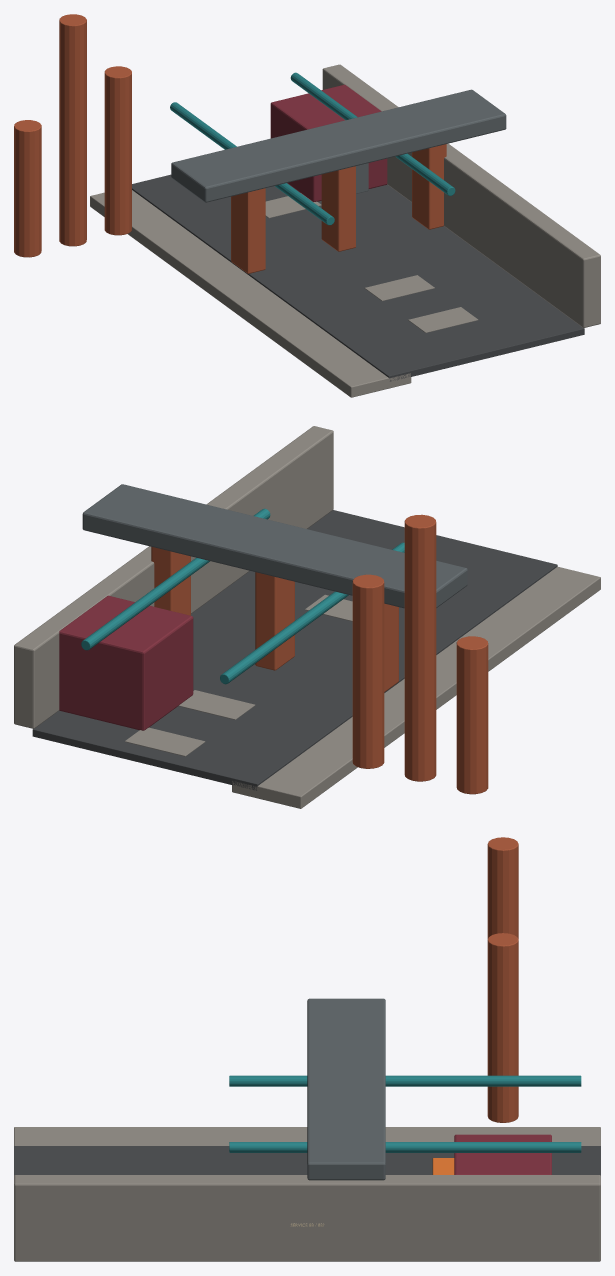
The model's file is cell_industrial_transition.glb.
The picture shows the model from 3 angles, top to bottom: view 1: azimuth 30°, elevation 25°; view 2: azimuth 150°, elevation 25°; view 3: azimuth 270°, elevation 25°; orthographic projection. The views are drawn at different scales.
Parts seen in each view (by area): view 1: IndustrialServiceRoad, RetainingWallEast, RailBridgeDeck, DrainageChannel, DistantChimney.001, DistantChimney, UtilityShed, DistantChimney.002, BridgePier_-6, BridgePier_0, BridgePier_6, OverbuiltPipe_4 (+4 smaller); view 2: IndustrialServiceRoad, RailBridgeDeck, RetainingWallEast, UtilityShed, DrainageChannel, DistantChimney.001, DistantChimney, DistantChimney.002, BridgePier_0, OverbuiltPipe_4, OverbuiltPipe_-4, BridgePier_6 (+4 smaller); view 3: RetainingWallEast, RailBridgeDeck, IndustrialServiceRoad, DrainageChannel, DistantChimney, OverbuiltPipe_-4, DistantChimney.001, OverbuiltPipe_4, UtilityShed.
Part boxes in pixels (bbox=[...]): IndustrialServiceRoad: bbox=[132, 174, 584, 381]; RetainingWallEast: bbox=[322, 64, 600, 327]; RailBridgeDeck: bbox=[171, 89, 506, 202]; DrainageChannel: bbox=[90, 190, 411, 397]; DistantChimney.001: bbox=[59, 14, 86, 246]; DistantChimney: bbox=[104, 66, 131, 235]; UtilityShed: bbox=[270, 84, 387, 201]; DistantChimney.002: bbox=[14, 120, 41, 257]; BridgePier_-6: bbox=[231, 188, 265, 273]; BridgePier_0: bbox=[321, 166, 355, 251]; BridgePier_6: bbox=[412, 144, 446, 229]; OverbuiltPipe_4: bbox=[290, 72, 455, 195]; IndustrialServiceRoad: bbox=[32, 510, 557, 790]; RailBridgeDeck: bbox=[82, 484, 467, 608]; RetainingWallEast: bbox=[14, 426, 333, 728]; UtilityShed: bbox=[59, 595, 193, 730]; DrainageChannel: bbox=[232, 566, 600, 808]; DistantChimney.001: bbox=[404, 514, 436, 781]; DistantChimney: bbox=[352, 574, 384, 768]; DistantChimney.002: bbox=[456, 636, 488, 794]; BridgePier_0: bbox=[255, 572, 294, 670]; OverbuiltPipe_4: bbox=[81, 508, 270, 650]; OverbuiltPipe_-4: bbox=[220, 542, 404, 684]; BridgePier_6: bbox=[151, 546, 190, 615]; RetainingWallEast: bbox=[14, 1175, 600, 1261]; RailBridgeDeck: bbox=[307, 998, 385, 1180]; IndustrialServiceRoad: bbox=[14, 1146, 600, 1175]; DrainageChannel: bbox=[14, 1127, 600, 1145]; DistantChimney: bbox=[487, 933, 518, 1122]; OverbuiltPipe_-4: bbox=[229, 1075, 581, 1086]; DistantChimney.001: bbox=[487, 837, 518, 938]; OverbuiltPipe_4: bbox=[229, 1142, 581, 1152]; UtilityShed: bbox=[454, 1134, 551, 1174].
Size of what is drawn, in the model's own units: 26.8 by 14.8 by 30.
